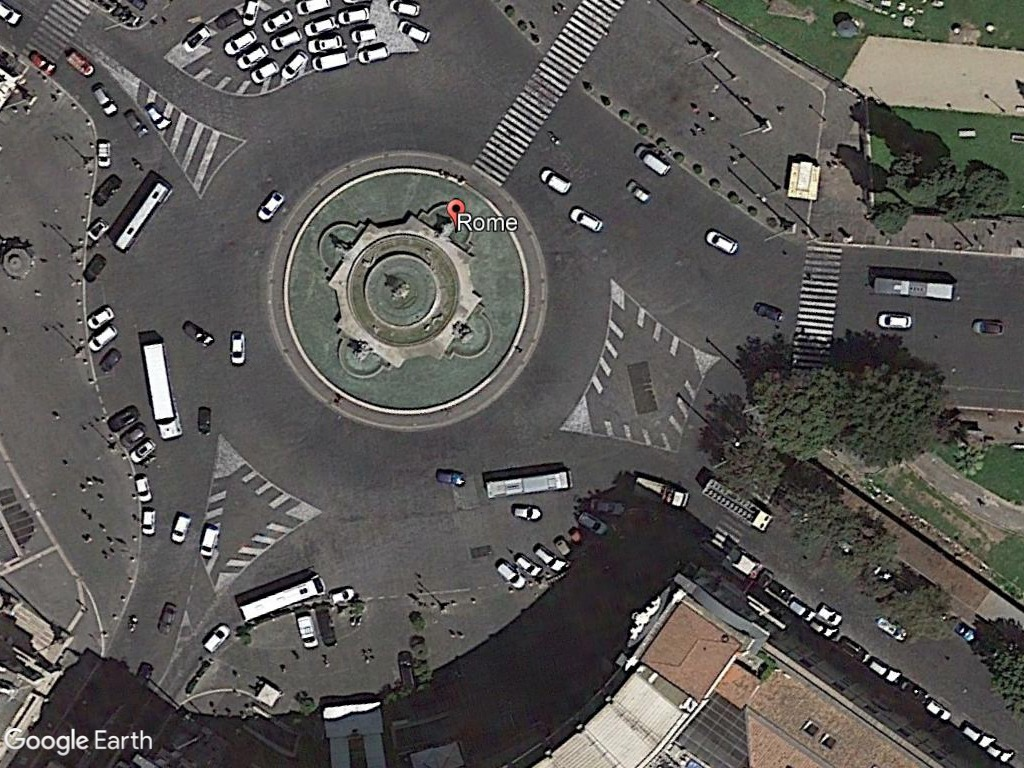bus: (112, 178, 175, 258), (238, 572, 331, 623), (478, 466, 576, 501), (867, 270, 961, 302)
car: (250, 189, 290, 224), (702, 224, 743, 258), (486, 559, 527, 592), (534, 166, 577, 196), (196, 619, 232, 654), (152, 597, 182, 639), (85, 81, 120, 117), (620, 175, 656, 209), (564, 205, 607, 233), (179, 320, 219, 350), (221, 25, 260, 55), (224, 327, 251, 370), (81, 302, 124, 329), (393, 18, 435, 45), (121, 106, 151, 143), (143, 98, 174, 133), (869, 309, 918, 331), (85, 321, 118, 353), (125, 435, 157, 468), (236, 41, 270, 72), (301, 13, 340, 40), (128, 471, 159, 504), (260, 7, 294, 37), (585, 494, 630, 516), (270, 25, 304, 53), (968, 316, 1011, 338), (247, 57, 282, 84), (281, 48, 310, 80), (431, 467, 472, 489), (353, 42, 392, 65), (335, 4, 372, 28), (308, 30, 345, 54), (505, 504, 547, 524), (136, 505, 160, 540), (326, 583, 357, 609), (93, 136, 114, 173), (349, 24, 383, 43)
longvehicle: (136, 338, 183, 443)
van: (629, 140, 676, 181), (165, 507, 193, 548), (311, 48, 354, 74), (196, 520, 221, 563), (294, 611, 320, 650)
